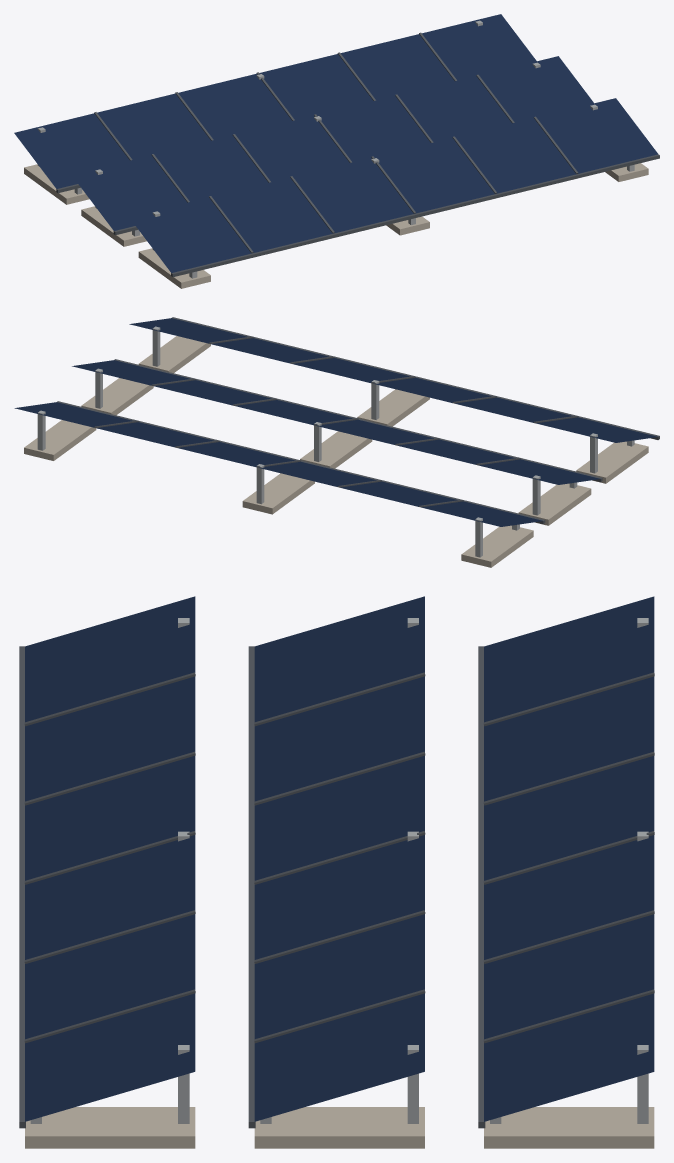
The model's file is solar-array.glb.
3 renders of one model, top to bottom at view 1: azimuth 30°, elevation 25°; view 2: azimuth 150°, elevation 25°; view 3: azimuth 270°, elevation 25°, orthographic. The views are drawn at different scales.
Parts seen in each view (by area): view 1: solar-array_v0; view 2: solar-array_v0; view 3: solar-array_v0.
Part boxes in pixels (x1=…): solar-array_v0: x1=14, y1=14, x2=659, y2=288; solar-array_v0: x1=14, y1=317, x2=659, y2=567; solar-array_v0: x1=19, y1=596, x2=654, y2=1148.
Size of the model in its own units: 9.8 by 0.8536 by 5.54.
